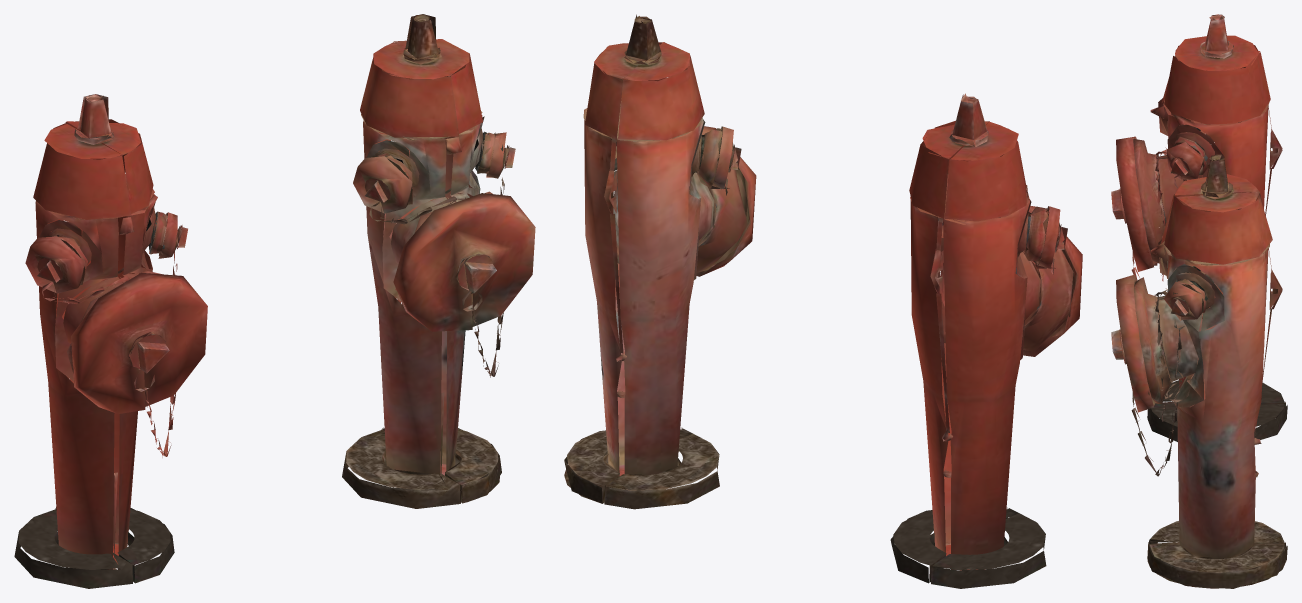
File: ph_fire_hydrant.glb
3 views of the same model, side by side, from view 1: azimuth 30°, elevation 25°; view 2: azimuth 150°, elevation 25°; view 3: azimuth 270°, elevation 25° (orthographic). The views are drawn at different scales.
Parts seen in each view (by area): view 1: fire_hydrant; view 2: fire_hydrant; view 3: fire_hydrant.
Boxes of the visible parts, box(x1,y1,x2,y2) form: fire_hydrant: box(14, 14, 535, 588); fire_hydrant: box(564, 14, 1082, 588); fire_hydrant: box(1111, 14, 1287, 588).
Bounding box in the file's own units: 0.8743 × 0.8051 × 0.319.
2 materials, 2 textured.
